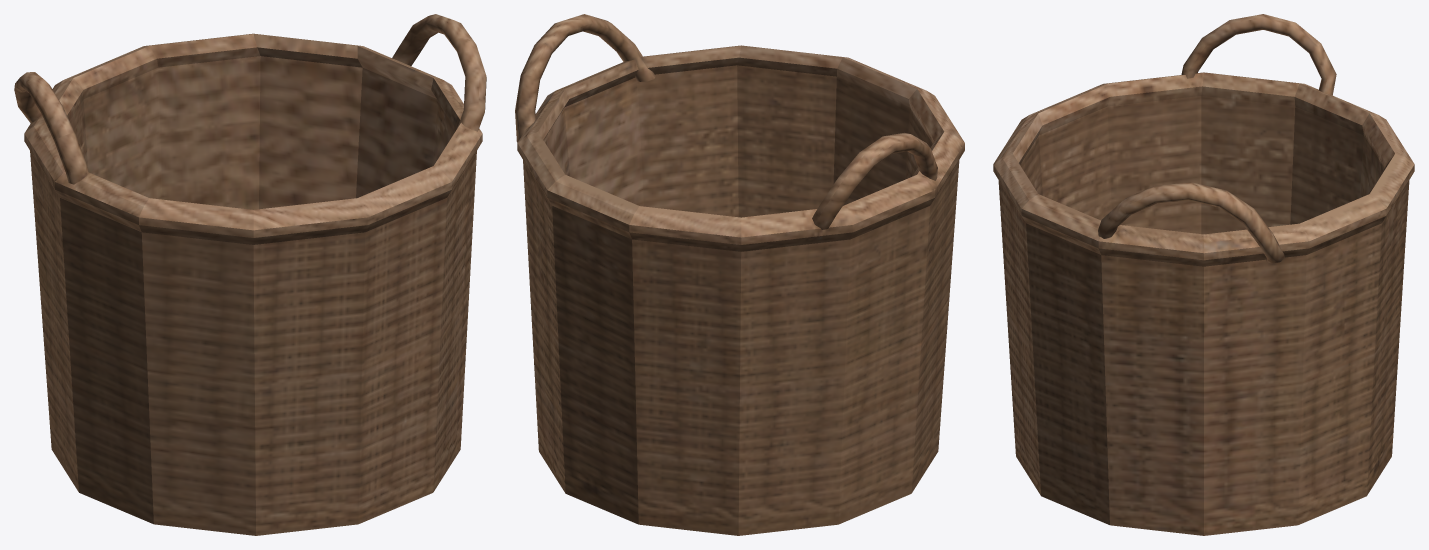
Rendered from Basket_03.fbx.
3 renders of one model, left to right at view 1: azimuth 30°, elevation 25°; view 2: azimuth 150°, elevation 25°; view 3: azimuth 270°, elevation 25°, orthographic. The views are drawn at different scales.
Visible parts, largest first — view 1: Basket_03_Low; view 2: Basket_03_Low; view 3: Basket_03_Low.
Part boxes in pixels (box(x1,y1,x2,y2)): Basket_03_Low: box(14, 14, 486, 535); Basket_03_Low: box(515, 14, 964, 535); Basket_03_Low: box(993, 14, 1414, 535).
Bounding box in the file's own units: 0.6399 × 0.596 × 0.6342.
